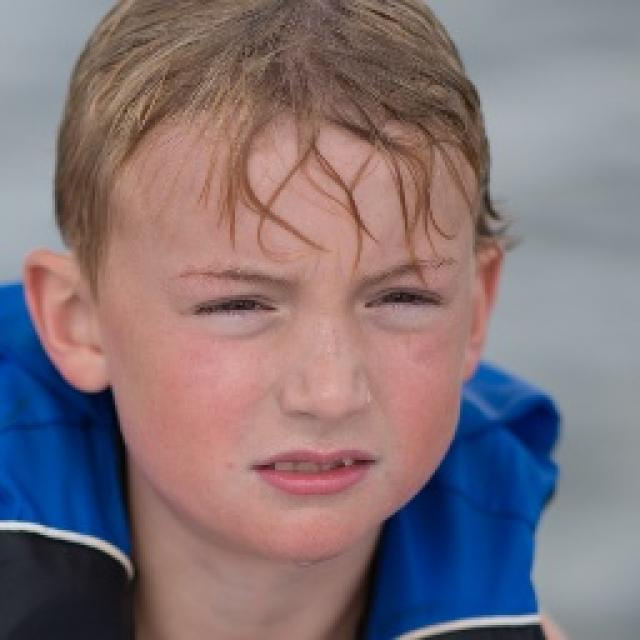earlobe: (22, 248, 112, 394), (457, 238, 505, 384)
